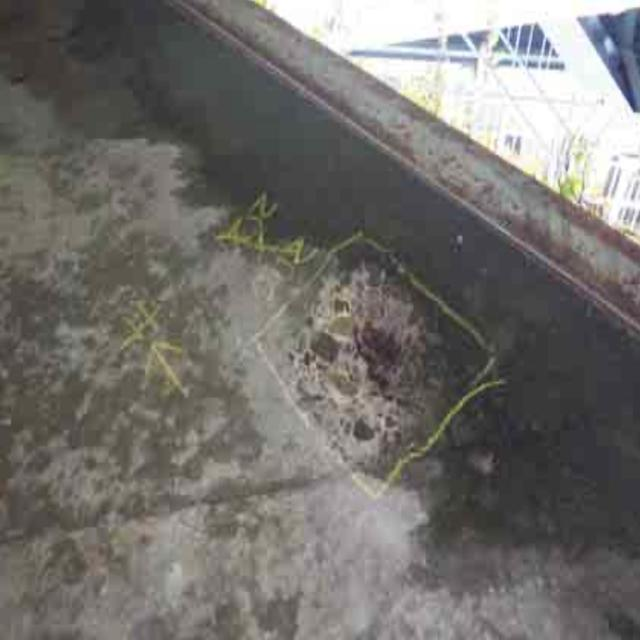spalling: (262, 216, 472, 488)
